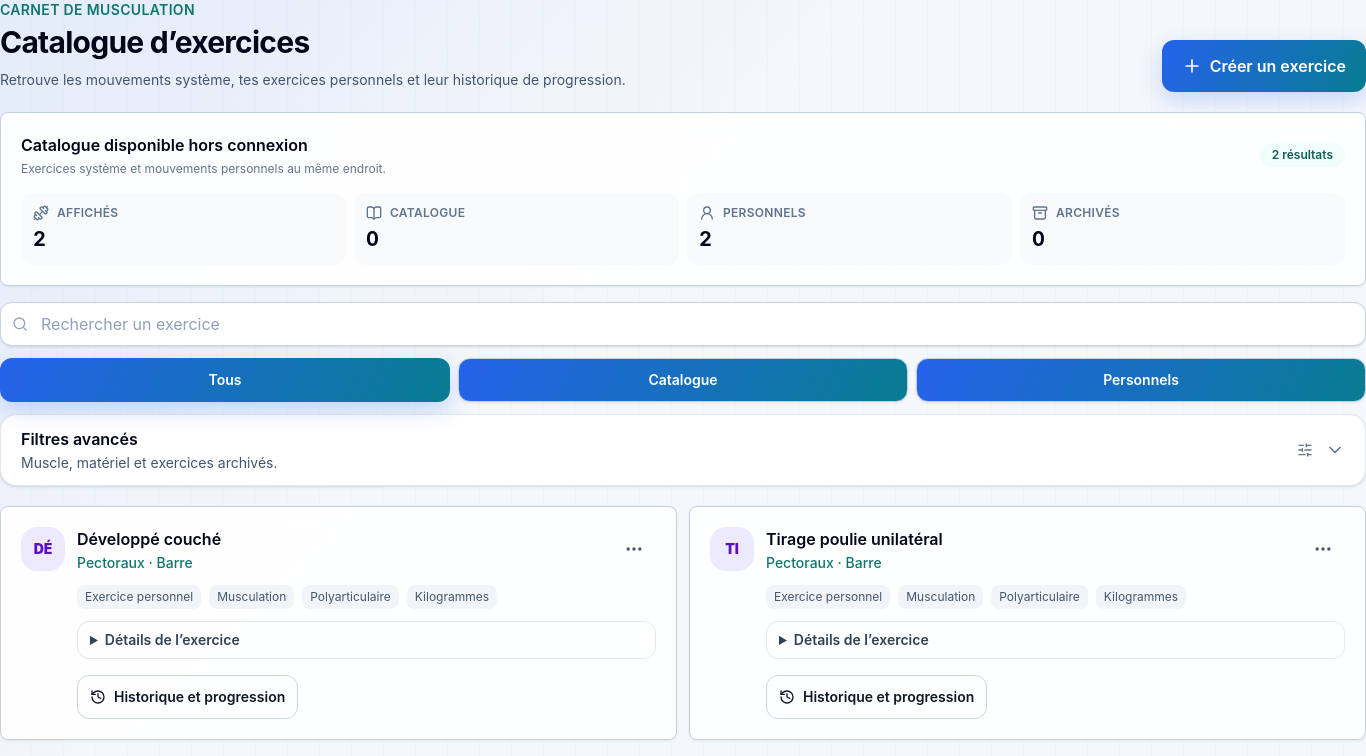
Test: StrengthExercisesPage › conserve les suggestions de similarité dans un état filtré
Type "tirage unilateral poulie" into the search field labelled "Rechercher un exercice" at point(683, 324), box [0,302,1365,346]
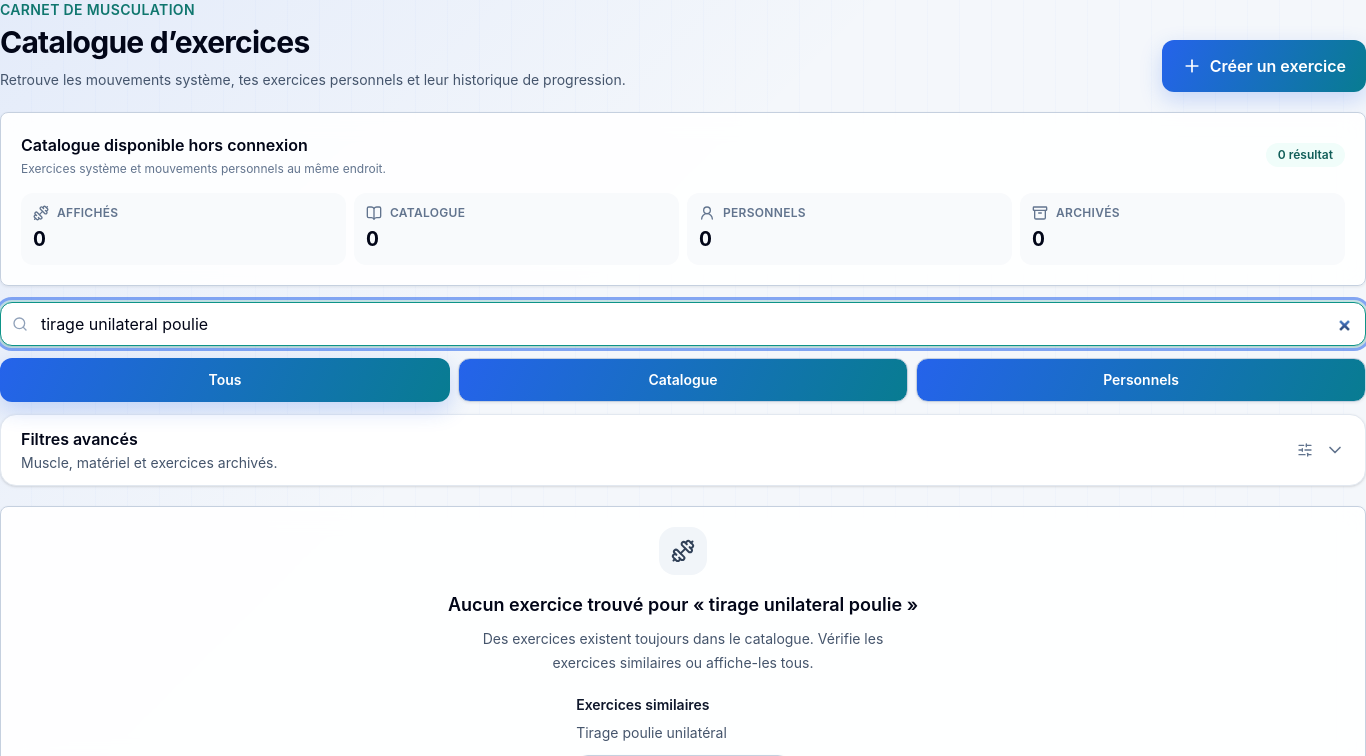
expect the list item "Tirage poulie unilatéral" is shown: met, box [576,724,727,741]
expect the text "Exercices similaires" is shown: met, box [576,696,710,713]
